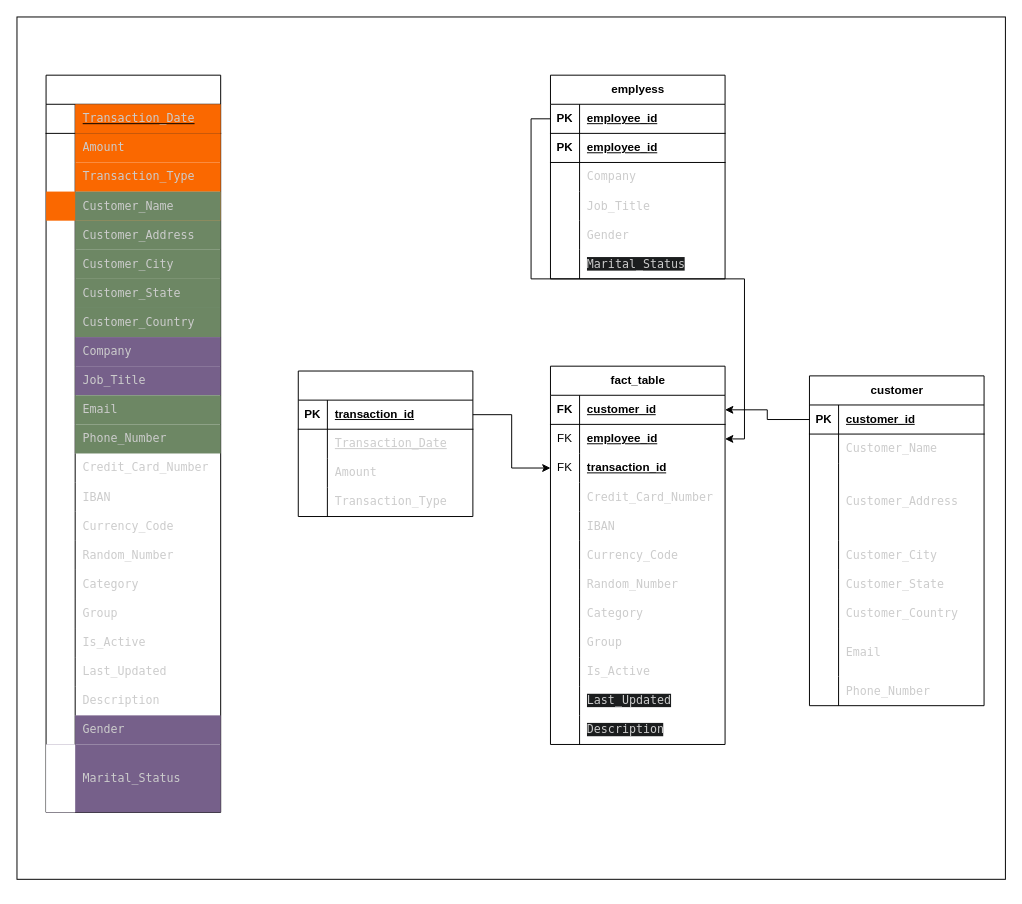
Some shapes in this 1022 by 904 pixel diagram are drawn without their labels. Here are the shapes that lost their labels. From the top down, the box of each, then its label:
(45, 74, 221, 812): nuga_bank_df
(297, 370, 473, 517): transactions
